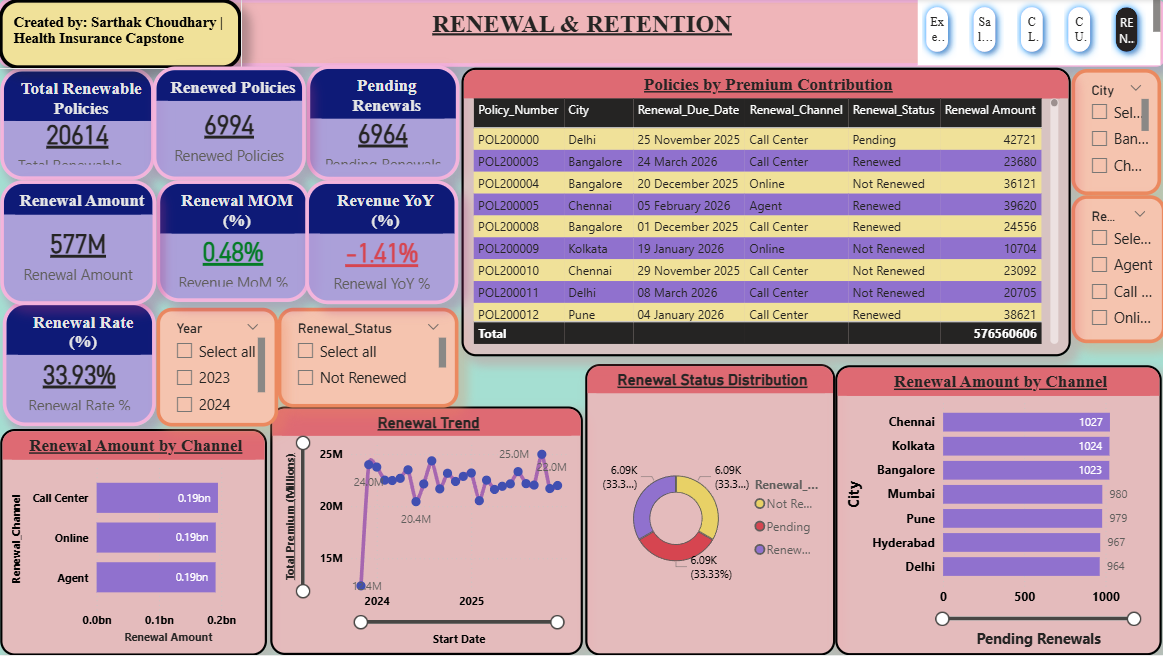

The dashboard page shown, as its layout file describes it:
{"tool":"powerbi","page":{"name":"RENEWAL & RETENTION","canvas":[1280,720],"ordinal":4},"visuals":[{"type":"textbox","box":[0,0,1280.3,74.1],"z":0},{"type":"card","title":"Pending Renewals","fields":{"Values":["All Measures.Pending Renewals"]},"box":[337.8,72.5,168.2,126.1],"z":1000},{"type":"card","title":"Total Renewable Policies","fields":{"Values":["All Measures.Total Renewable Policies"]},"box":[1.4,75.4,169.6,123.2],"z":2000},{"type":"card","title":"Renewal Rate (%) ","fields":{"Values":["All Measures.Renewal Rate %"]},"box":[4.6,332.2,168.4,136.5],"z":3000},{"type":"barChart","title":"Renewal Amount by Channel","fields":{"Category":["fact_renewals.Renewal_Channel"],"Y":["All Measures.Renewal Amount"]},"box":[1.5,471.8,292.8,248.8],"z":4000},{"type":"lineChart","title":"Renewal Trend","fields":{"Category":["Date Table.Date.Variation.Date Hierarchy.Year","Date Table.Date.Variation.Date Hierarchy.Quarter","Date Table.Date.Variation.Date Hierarchy.Month","Date Table.Date.Variation.Date Hierarchy.Day"],"Y":["All Measures.Renewal Amount"]},"box":[297.3,447.5,342.8,273.1],"z":5000},{"type":"donutChart","title":"Renewal Status Distribution","fields":{"Category":["fact_renewals.Renewal_Status"],"Y":["CountNonNull(fact_overseas.Policy_Number)"]},"box":[643.2,400.5,274.6,320.1],"z":6000},{"type":"slicer","fields":{"Values":["dim_customer.City"]},"box":[1177.2,77.4,98.6,138],"z":7000},{"type":"slicer","fields":{"Values":["fact_renewals.Renewal_Status"]},"box":[306.4,338.3,198.7,109.2],"z":8000},{"type":"slicer","fields":{"Values":["fact_renewals.Renewal_Channel"]},"box":[1177.2,215.4,103.2,162.3],"z":9000},{"type":"slicer","fields":{"Values":["Date Table.Year"]},"box":[172.9,338.3,133.5,130.5],"z":10000},{"type":"textbox","box":[0,0,266.8,76.8],"z":11000},{"type":"tableEx","title":"Policies by Premium Contribution","fields":{"Values":["fact_policies.Policy_Number","dim_customer.City","fact_renewals.Renewal_Due_Date","fact_renewals.Renewal_Channel","fact_renewals.Renewal_Status","All Measures.Renewal Amount"]},"box":[508.2,75.8,669,317],"z":12000},{"type":"card","title":"Renewed Policies","fields":{"Values":["All Measures.Renewed Policies"]},"box":[168.2,73.9,168.2,124.7],"z":13000},{"type":"pageNavigator","box":[1009.2,0,266.8,72.5],"z":14000},{"type":"card","title":"Renewal MOM (%)","fields":{"Values":["All Measures.Revenue MoM %"]},"box":[172.9,198.7,168.4,133.5],"z":15000},{"type":"card","title":"Revenue YoY (%)","fields":{"Values":["All Measures.Renewal YoY %"]},"box":[336.4,198.6,168.2,136.3],"z":16000},{"type":"card","title":"Renewal Amount","fields":{"Values":["All Measures.Renewal Amount"]},"box":[1.5,198.7,171.4,136.5],"z":17000},{"type":"barChart","title":"Renewal Amount by Channel","fields":{"Category":["dim_customer.City"],"Y":["All Measures.Pending Renewals"]},"box":[917.8,402,358,318.6],"z":18000}]}

Visuals, with their boxes in screenshot pixels (x1, y1, x2, y2), scaled from the page's 1280x720 canvas onto the 1163x656 screenshot:
textbox: Rect(0, 0, 1162, 68)
"Pending Renewals" card: Rect(307, 66, 460, 181)
"Total Renewable Policies" card: Rect(1, 69, 155, 181)
"Renewal Rate (%) " card: Rect(4, 303, 157, 427)
"Renewal Amount by Channel" barChart: Rect(1, 430, 267, 655)
"Renewal Trend" lineChart: Rect(270, 408, 582, 655)
"Renewal Status Distribution" donutChart: Rect(584, 365, 834, 655)
slicer - dim_customer.City: Rect(1070, 71, 1159, 196)
slicer - fact_renewals.Renewal_Status: Rect(278, 308, 459, 408)
slicer - fact_renewals.Renewal_Channel: Rect(1070, 196, 1162, 344)
slicer - Date Table.Year: Rect(157, 308, 278, 427)
textbox: Rect(0, 0, 242, 70)
"Policies by Premium Contribution" tableEx: Rect(462, 69, 1070, 358)
"Renewed Policies" card: Rect(153, 67, 306, 181)
pageNavigator: Rect(917, 0, 1159, 66)
"Renewal MOM (%)" card: Rect(157, 181, 310, 303)
"Revenue YoY (%)" card: Rect(306, 181, 458, 305)
"Renewal Amount" card: Rect(1, 181, 157, 305)
"Renewal Amount by Channel" barChart: Rect(834, 366, 1159, 655)
